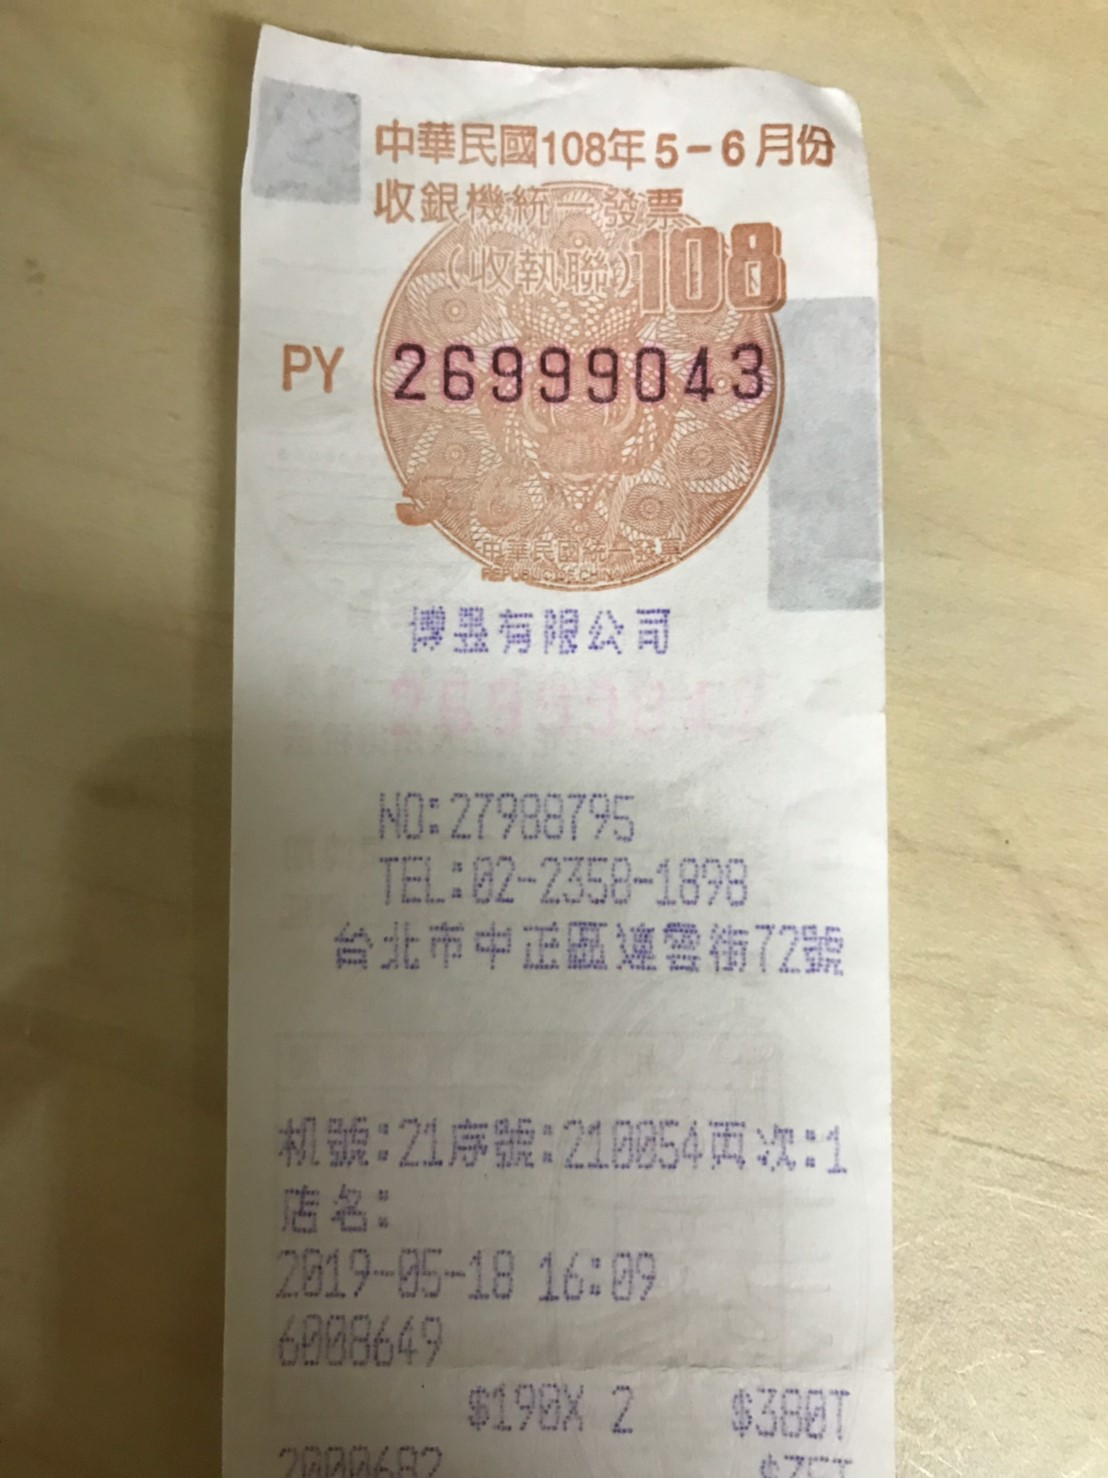Date_Old: (538, 120, 834, 173)
Number_Old: (388, 336, 770, 411)
